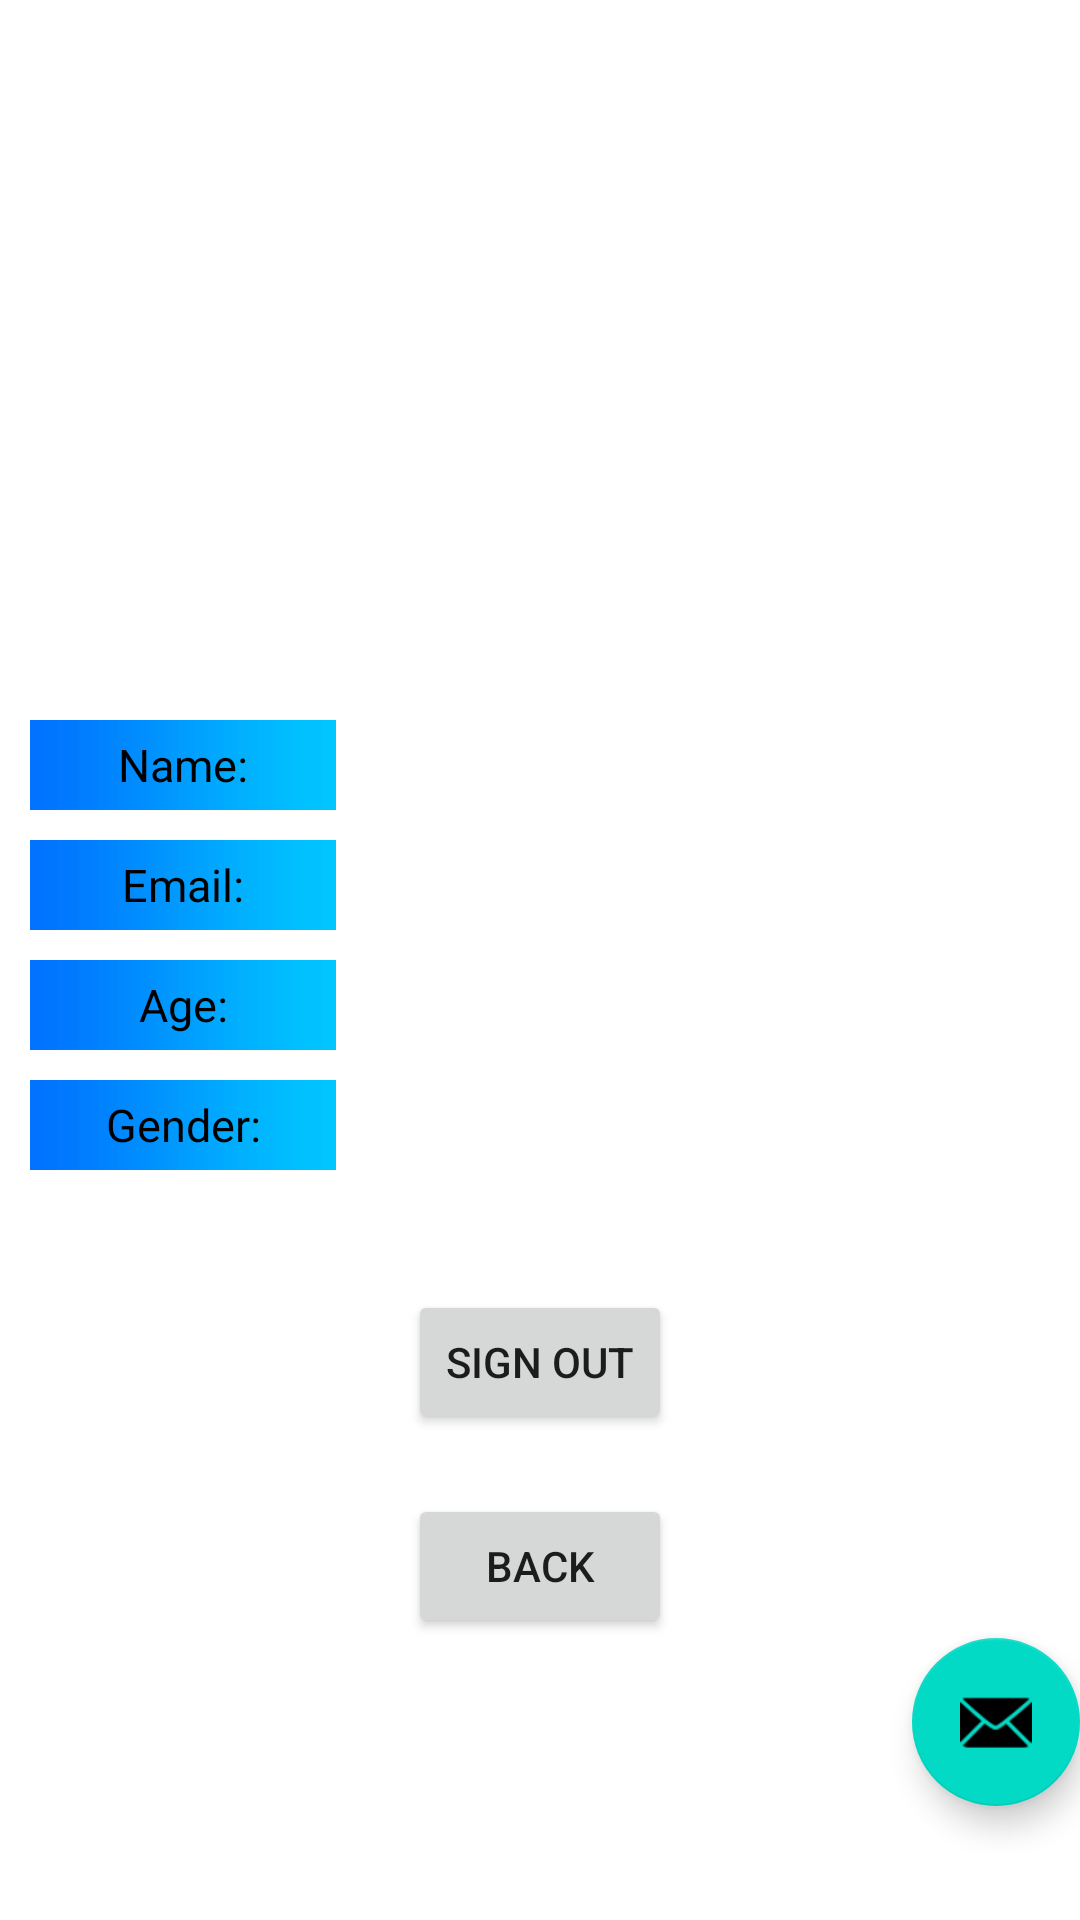

Icon bounding boxes for this 1080 x 1920 phone screenshot, format (x1, y1, x2, y2):
email: (912, 1638, 1080, 1806)
